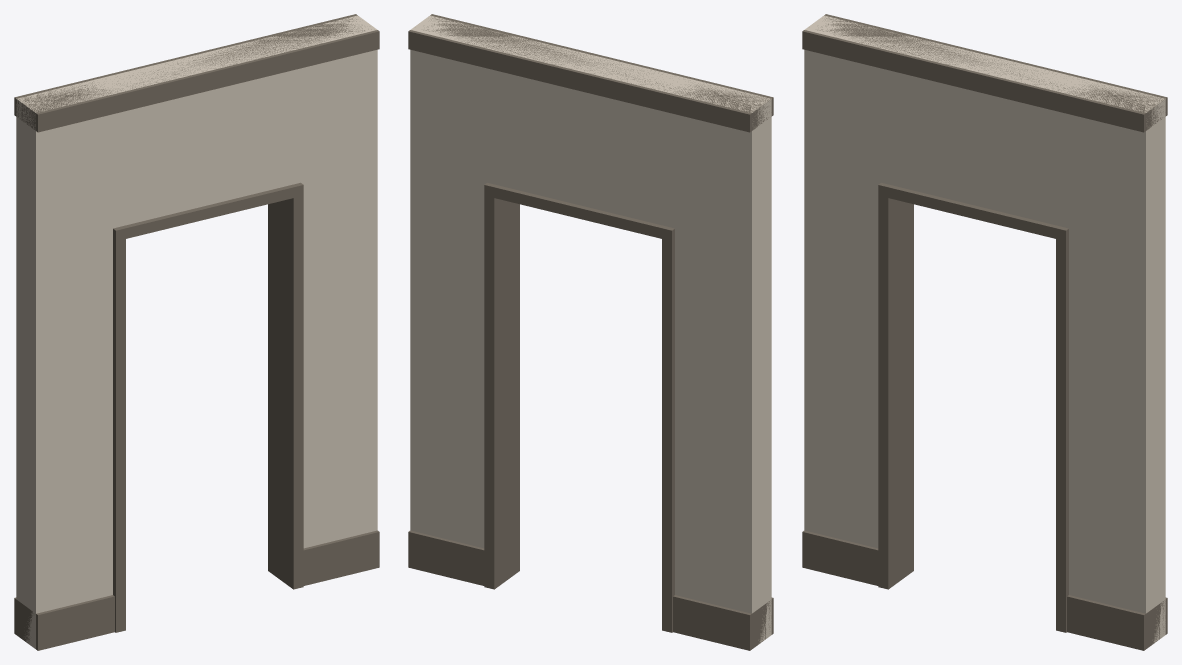
The model's file is wall_plaster_doorway.glb.
3 renders of one model, left to right at view 1: azimuth 30°, elevation 25°; view 2: azimuth 150°, elevation 25°; view 3: azimuth 330°, elevation 25°, orthographic.
Visible parts, largest first — view 1: wall_plaster_doorway; view 2: wall_plaster_doorway; view 3: wall_plaster_doorway.
Part boxes in pixels (x1,y1,x2,y2): wall_plaster_doorway: [14, 14, 379, 650]; wall_plaster_doorway: [408, 14, 773, 650]; wall_plaster_doorway: [802, 14, 1167, 650].
Bounding box in the file's own units: 2 × 3 × 0.26.
